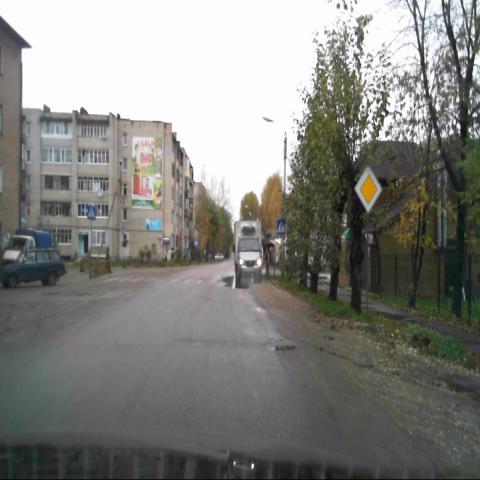2_1: (354, 163, 382, 216)
5_19_1: (87, 203, 97, 221), (276, 218, 286, 235)
